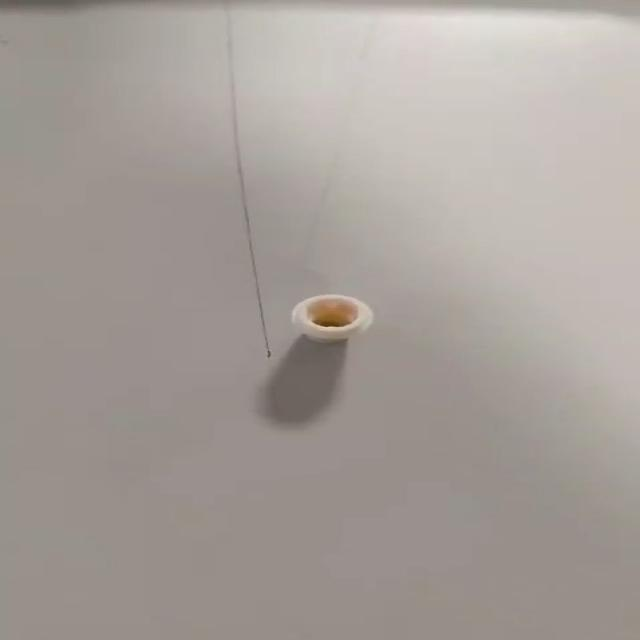Z1x1x1: (295, 294, 374, 341)
